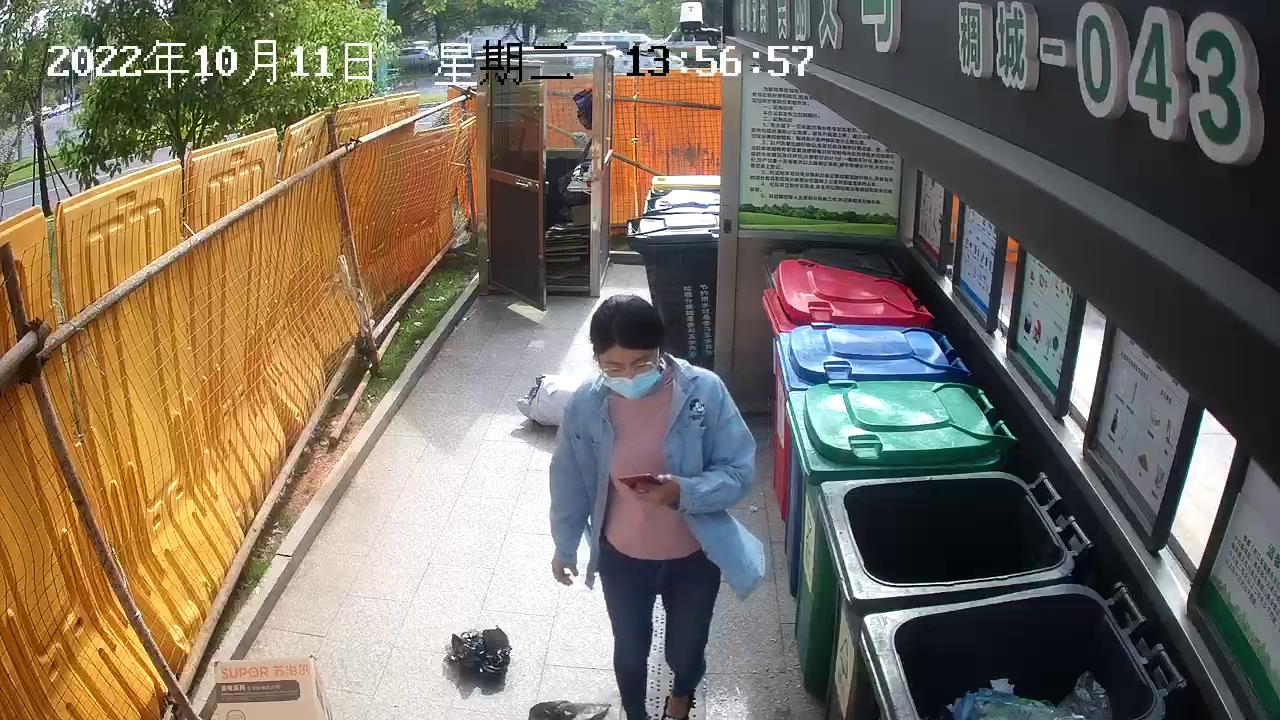garbage: (443, 620, 517, 683)
worker: (542, 290, 775, 720)
zhizhipin: (208, 652, 337, 720)
